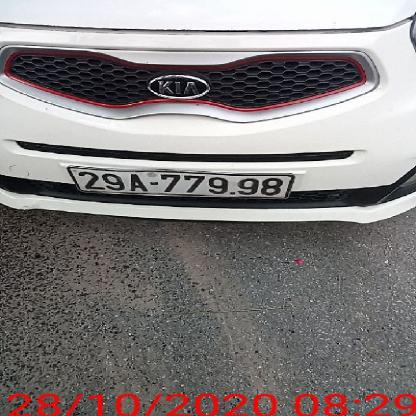biensoxe: (60, 164, 294, 201)
